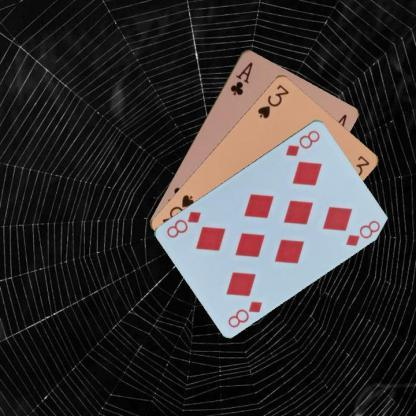3s: (254, 82, 290, 119)
8d: (282, 127, 322, 157), (225, 298, 263, 328)
Ac: (227, 58, 254, 96)
